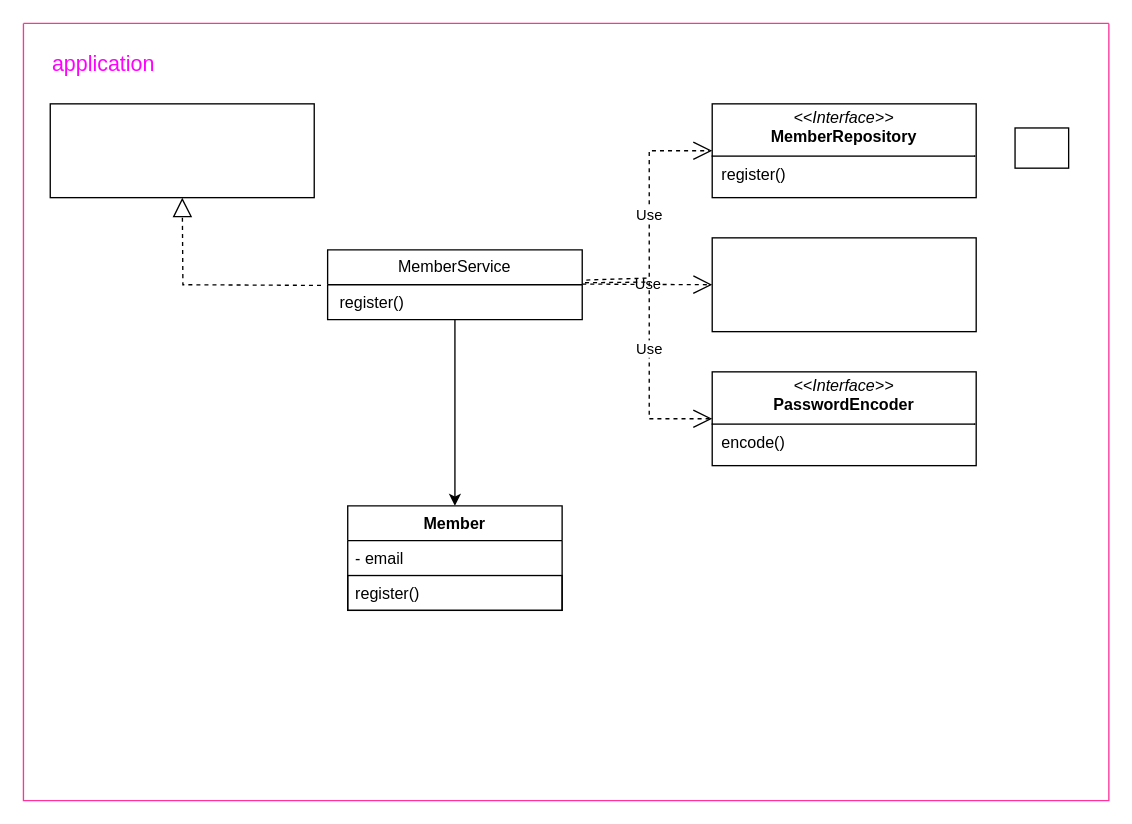
Image size: 1132x824. Some labels were removed from this diagram. Here are the shapes that lost their labels. From the top down, the centre of each, then its label:
the point at 181,150: <<Interface>> MemberRegister + register()
the point at 1041,147: H2
the point at 843,284: <<Interface>> EmailSender send()
